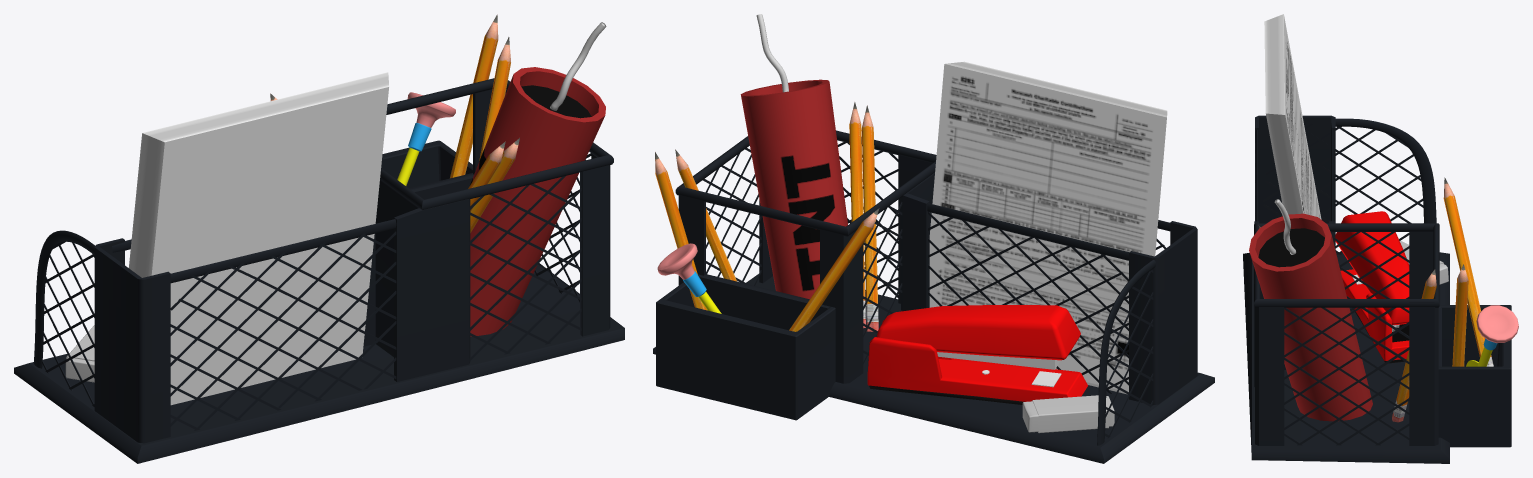
File: SM_Organizer.fbx
3 renders of one model, left to right at view 1: azimuth 30°, elevation 25°; view 2: azimuth 150°, elevation 25°; view 3: azimuth 270°, elevation 25°, orthographic. The views are drawn at different scales.
Parts seen in each view (by area): view 1: SM_organizer; view 2: SM_organizer; view 3: SM_organizer.
Part boxes in pixels (x1,y1,x2,y2): SM_organizer: [14, 14, 624, 463]; SM_organizer: [653, 14, 1214, 463]; SM_organizer: [1243, 14, 1518, 463].
Bounding box in the file's own units: 46.12 × 28.49 × 26.19.
